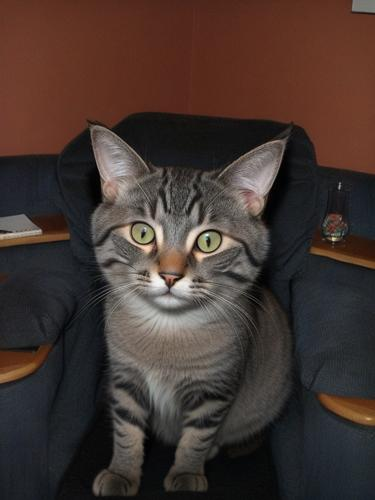cat: (53, 120, 294, 500)
chair: (1, 113, 375, 500)
person: (66, 226, 229, 472)
person/foot: (132, 420, 172, 464), (101, 432, 133, 470)
person/hand: (65, 377, 89, 406), (197, 379, 223, 404)
person/head: (111, 226, 177, 307)
